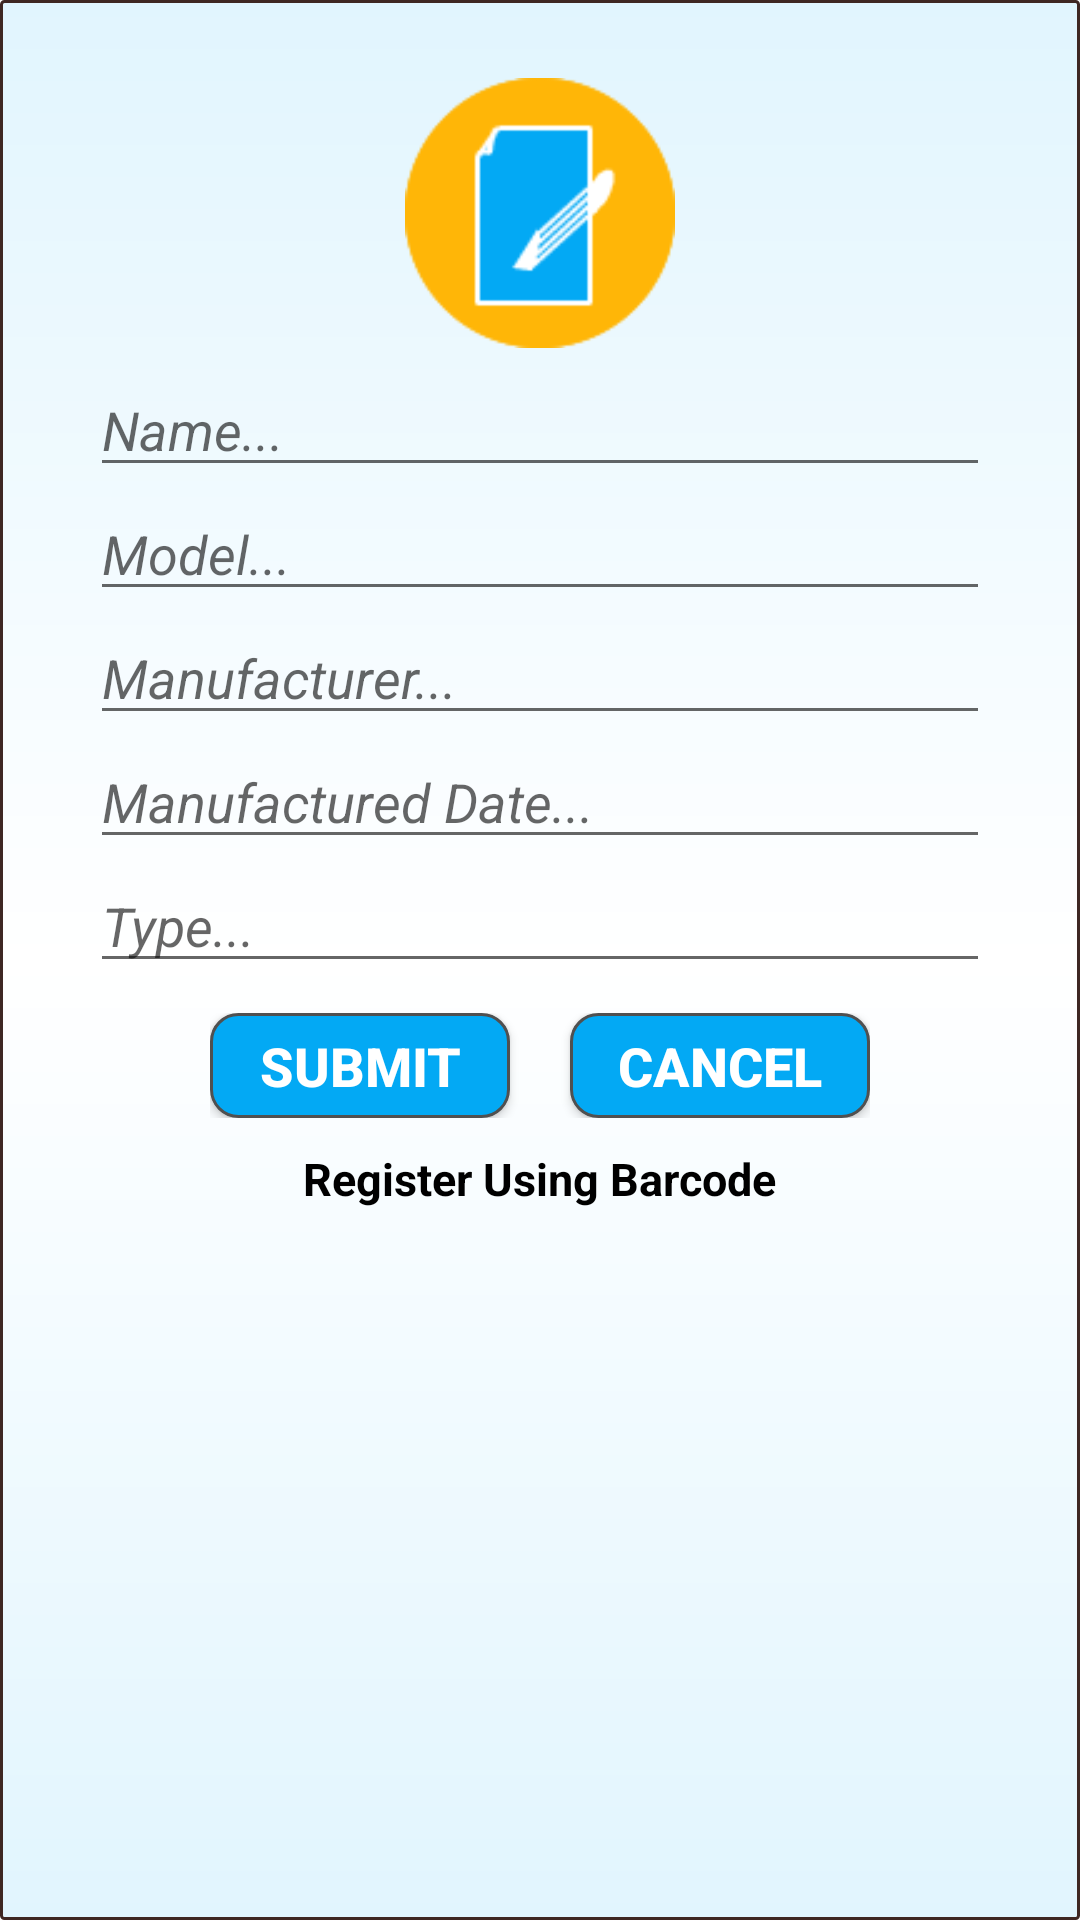

Locate icon controls on the screen. Image size 1080*1920, boxes as (x1, y1, x2, y2).
registration: (405, 78, 675, 348)
